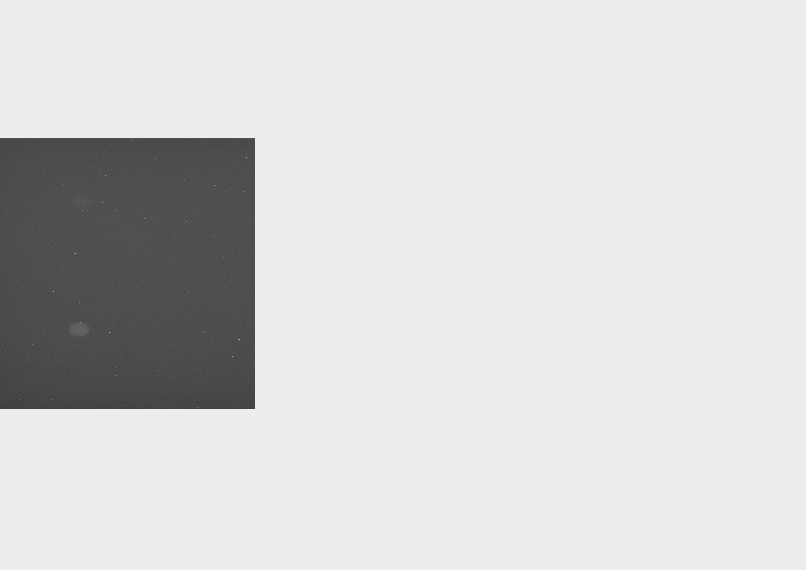bubble: (67, 321, 89, 337), (70, 192, 93, 207)
